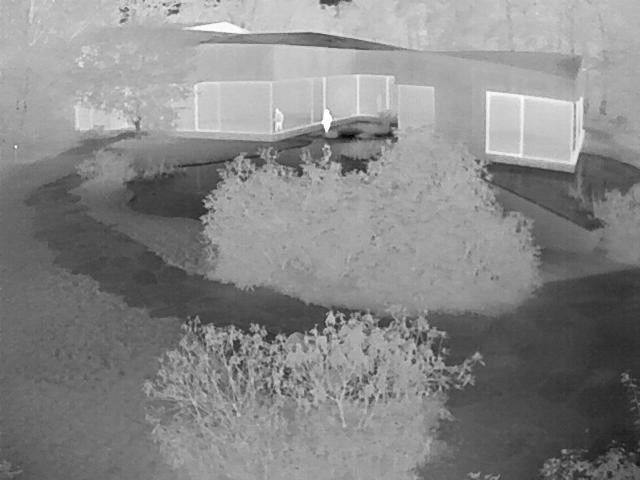person: (321, 107, 335, 132), (275, 106, 286, 131)
